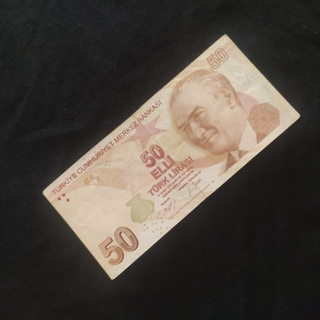50TLFront: (42, 33, 301, 280)
